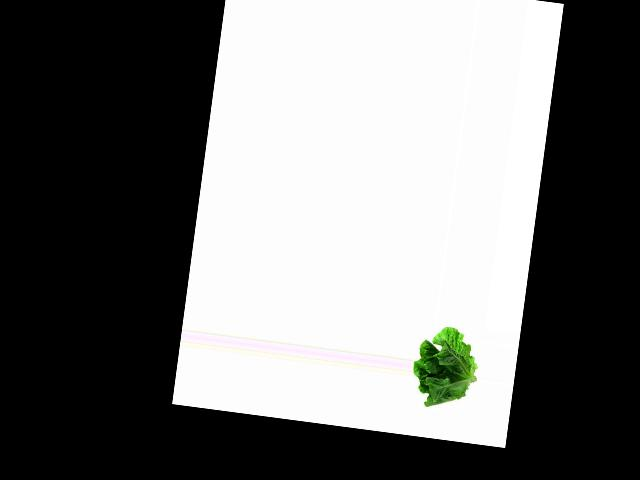lettuce: (408, 324, 479, 413)
